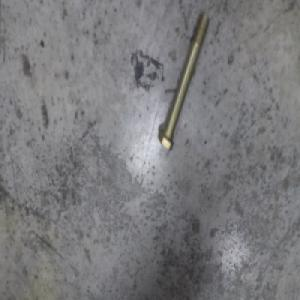Bolt: (159, 18, 208, 149)
